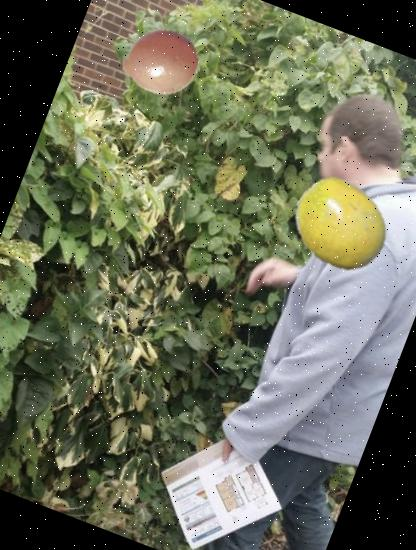Maracuja: (278, 163, 402, 288)
Tangelo: (111, 14, 208, 111)
